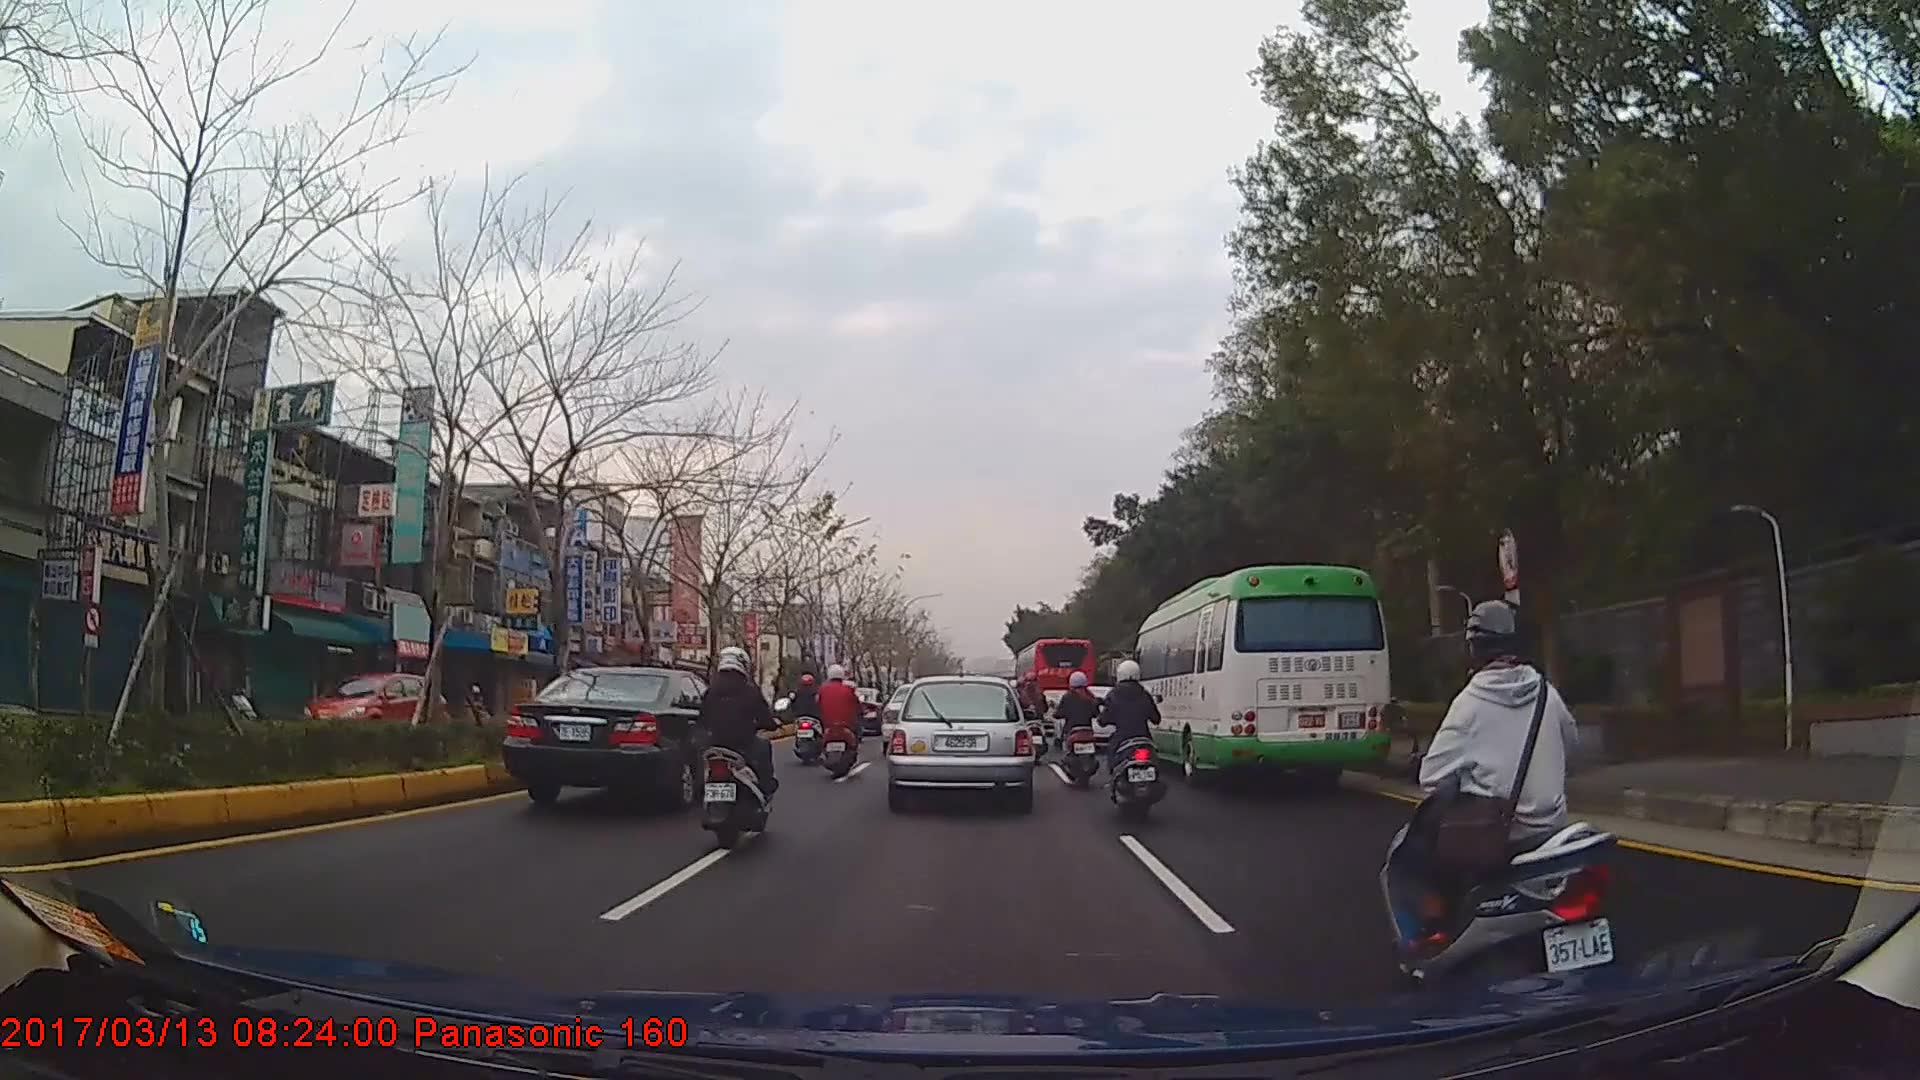rider: (1380, 595, 1619, 989), (692, 644, 791, 850), (1099, 659, 1172, 824), (1053, 670, 1103, 791), (817, 664, 862, 778), (791, 676, 829, 768), (1012, 671, 1046, 764), (464, 686, 488, 727)
vehicle: (1125, 566, 1392, 797), (501, 664, 752, 813), (885, 672, 1033, 810), (301, 673, 449, 751), (1012, 630, 1097, 726)
